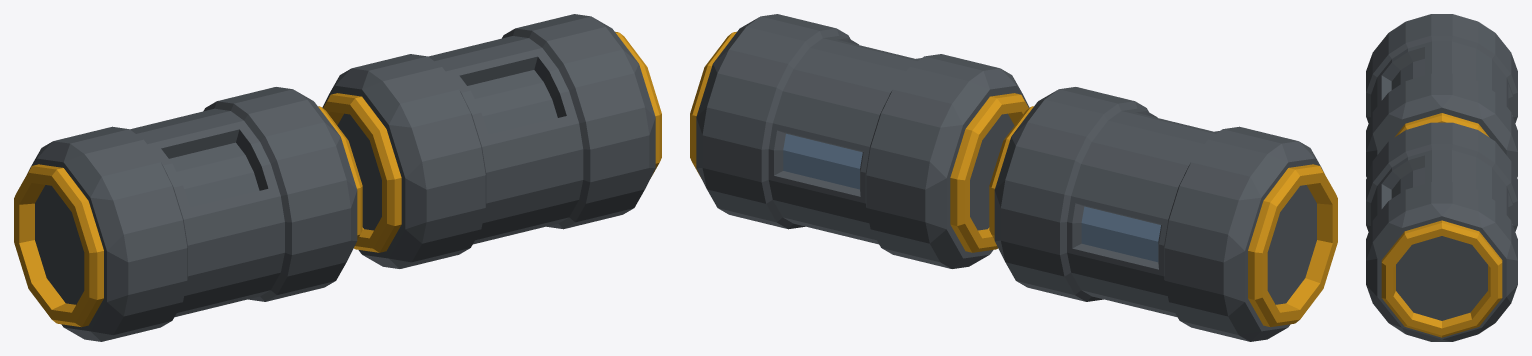
The model's file is Dropship_01_Tank_Yellow.fbx.
3 renders of one model, left to right at view 1: azimuth 30°, elevation 25°; view 2: azimuth 150°, elevation 25°; view 3: azimuth 270°, elevation 25°, orthographic. The views are drawn at different scales.
Parts seen in each view (by area): view 1: Dropship_01_Tank_Yellow; view 2: Dropship_01_Tank_Yellow; view 3: Dropship_01_Tank_Yellow.
Part boxes in pixels (x1=…): Dropship_01_Tank_Yellow: x1=14, y1=14, x2=661, y2=341; Dropship_01_Tank_Yellow: x1=690, y1=14, x2=1337, y2=341; Dropship_01_Tank_Yellow: x1=1366, y1=14, x2=1517, y2=341.
Size of the model in its own units: 867 by 268 by 267.
2 materials, 2 textured.
